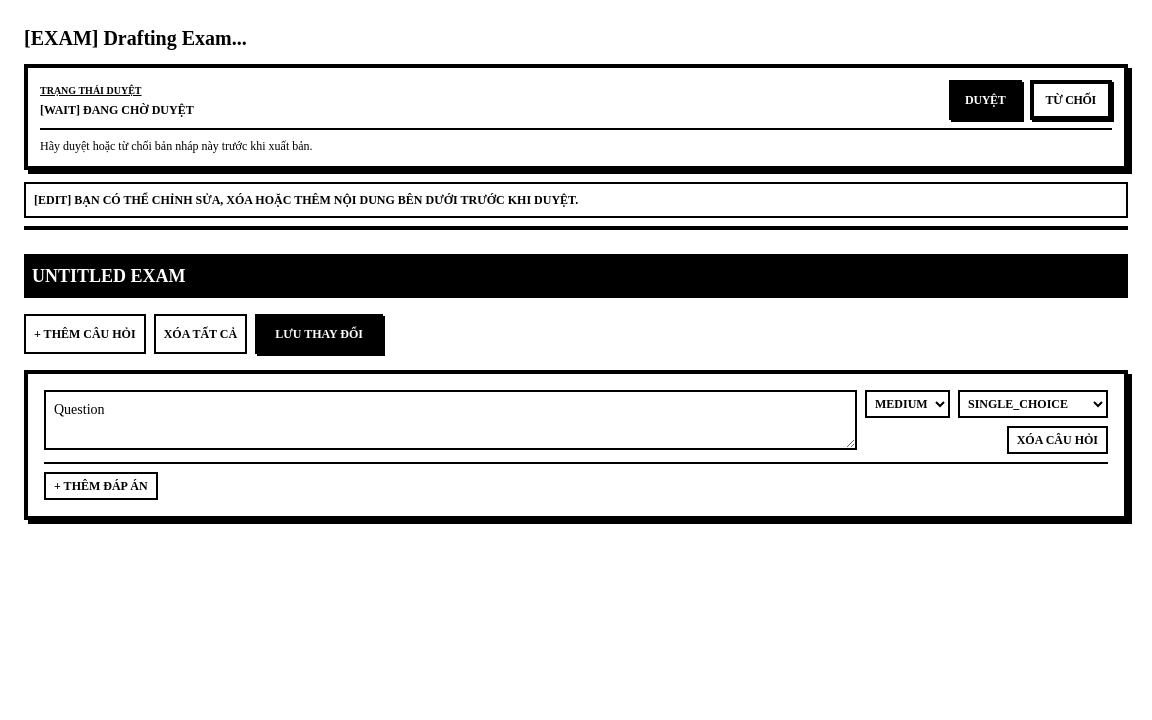
AI generation job review panel › approving sends the observed version and shows the new state
Click the button "Duyệt": [985, 100] box [949,80,1022,120]
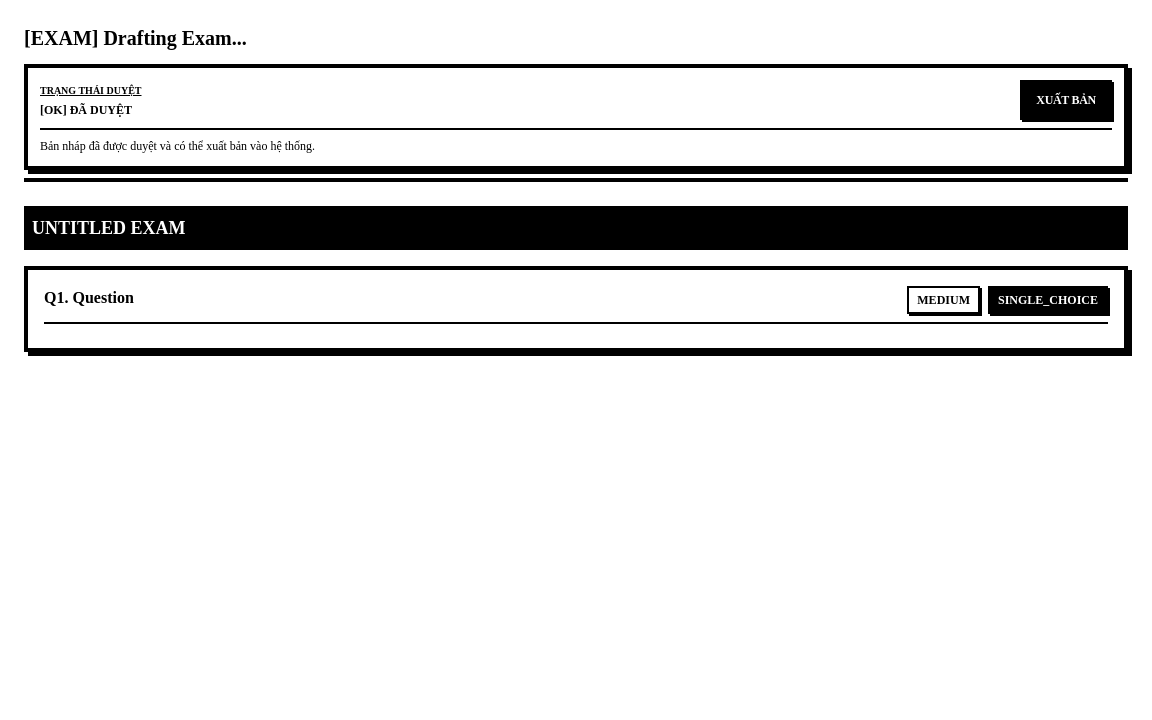
expect the message with test id "generation-job-status" shows "ĐÃ DUYỆT": met, box [40,102,132,116]
expect the button "Xuất bản" is shown: met, box [1020,80,1112,120]
